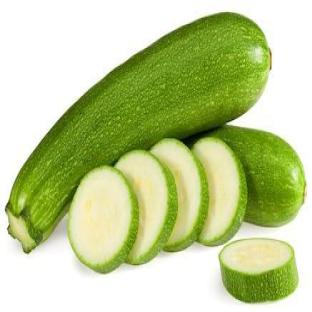Zucchini: (7, 14, 270, 251), (208, 126, 306, 225), (68, 166, 138, 272), (115, 150, 177, 263), (151, 138, 208, 250), (193, 137, 247, 245), (220, 239, 298, 302)
